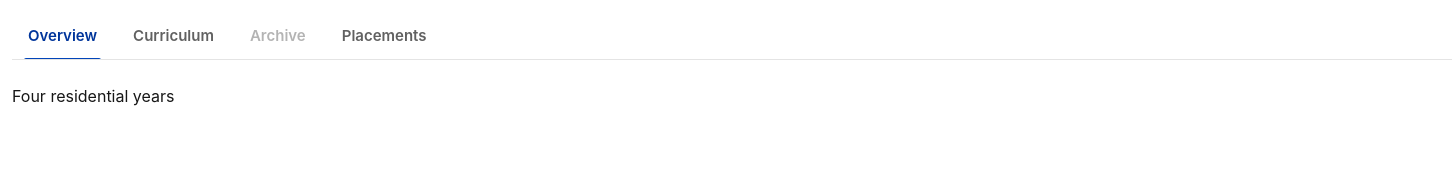
Test case: Tabs › selects on press
Press the mouse on the tab "Curriculum" at (174,36), box [117, 12, 230, 59]
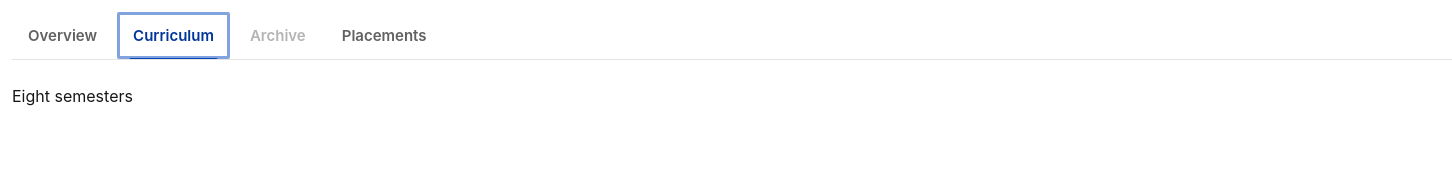
Expected: the panel reads "Eight semesters", [12, 86, 133, 106]
